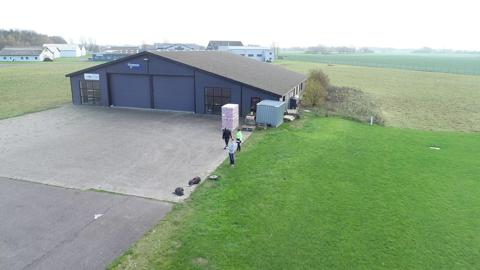RockwoolPallet: (221, 103, 240, 131)
